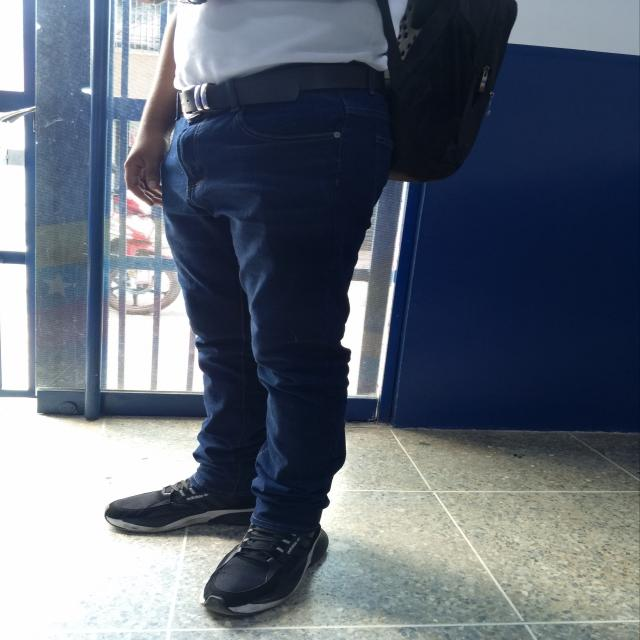pantalon_oscuro: (159, 88, 401, 534)
